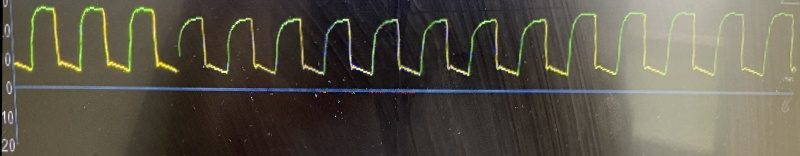normal_pressure: (11, 4, 786, 83)
